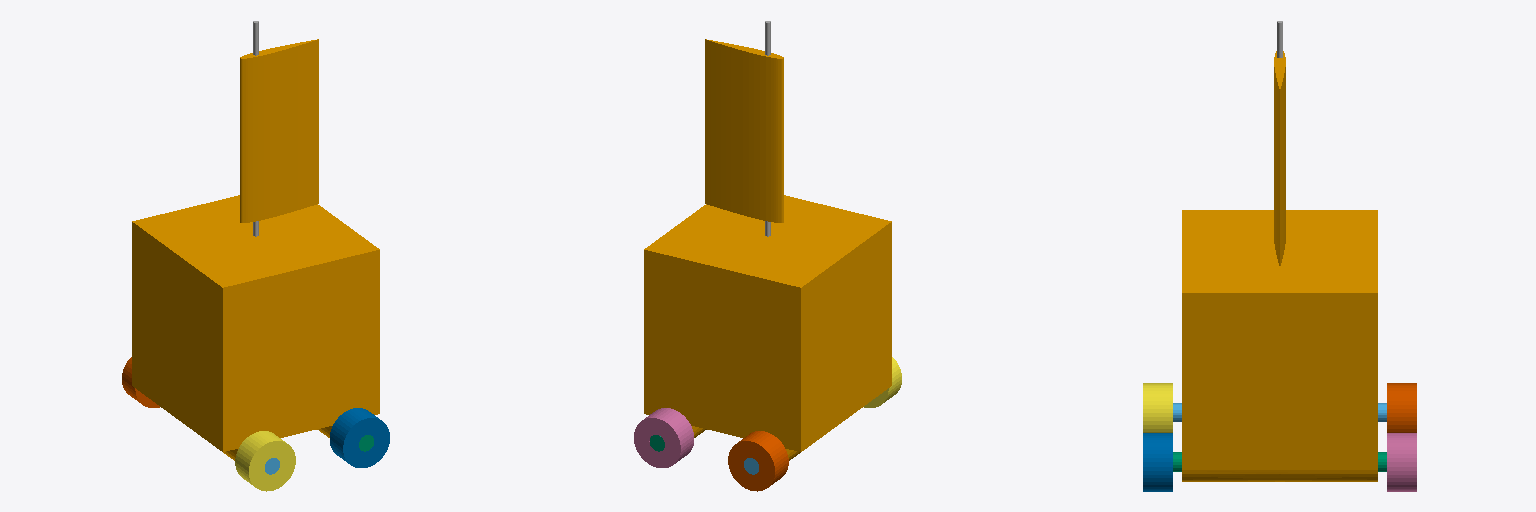
The robot description file, URDF, robot "cubo":
<?xml version="1.0"?>
<robot name="cubo">

<!-- LINKS -->

  <link name="base_link">
    <inertial>
      <origin xyz="0.0 -1.4387415876218923e-16 0.6802331218289486" rpy="0 0 0"/>
      <mass value="8130.307511653398"/>
      <inertia ixx="1421.174701" 
               iyy="1424.106222" 
               izz="1357.982772" 
               ixy="-0.0" 
               iyz="-0.0" 
               ixz="-0.0"/>
    </inertial>
    <visual>
      <origin xyz="0 0 0" rpy="0 0 0"/>
      <geometry>
        <mesh filename="package://cubo_description/meshes/base_link.stl"/>
      </geometry>
      <material name="silver"/>
    </visual>
    <collision>
      <origin xyz="0 0 0" rpy="0 0 0"/>
      <geometry>
        <mesh filename="package://cubo_description/meshes/base_link.stl"/>
      </geometry>
    </collision>
  </link>

  <link name="axis1_link_1">
    <inertial>
      <origin xyz="0.0 0.5 0.0" rpy="0 0 0"/>
      <mass value="86.31525815737957"/>
      <inertia ixx="14.152106" 
               iyy="0.107894" 
               izz="14.152106" 
               ixy="0.0" 
               iyz="0.0" 
               ixz="-0.0"/>
    </inertial>
    <visual>
      <origin xyz="0.3 0.5 -0.15" rpy="0 0 0"/>
      <geometry>
        <mesh filename="package://cubo_description/meshes/axis1_link_1.stl"/>
      </geometry>
      <material name="silver"/>
    </visual>
    <collision>
      <origin xyz="0.3 0.5 -0.15" rpy="0 0 0"/>
      <geometry>
        <mesh filename="package://cubo_description/meshes/axis1_link_1.stl"/>
      </geometry>
    </collision>
  </link>

  <link name="axis2_link_1">
    <inertial>
      <origin xyz="0.0 0.5 0.0" rpy="0 0 0"/>
      <mass value="86.31525815737956"/>
      <inertia ixx="14.152106" 
               iyy="0.107894" 
               izz="14.152106" 
               ixy="0.0" 
               iyz="0.0" 
               ixz="-0.0"/>
    </inertial>
    <visual>
      <origin xyz="-0.3 0.5 -0.15" rpy="0 0 0"/>
      <geometry>
        <mesh filename="package://cubo_description/meshes/axis2_link_1.stl"/>
      </geometry>
      <material name="silver"/>
    </visual>
    <collision>
      <origin xyz="-0.3 0.5 -0.15" rpy="0 0 0"/>
      <geometry>
        <mesh filename="package://cubo_description/meshes/axis2_link_1.stl"/>
      </geometry>
    </collision>
  </link>

  <link name="wheel1_link_1">
    <inertial>
      <origin xyz="-5.551115123125783e-17 0.07500000000000007 2.7755575615628914e-17" rpy="0 0 0"/>
      <mass value="73.98450699203963"/>
      <inertia ixx="0.601124" iyy="0.924806" izz="0.601124" ixy="0.0" iyz="0.0" ixz="-0.0"/>
    </inertial>
    <visual>
      <origin xyz="0.3 0.7 -0.15" rpy="0 0 0"/>
      <geometry>
        <mesh filename="package://cubo_description/meshes/wheel1_link_1.stl"/>
      </geometry>
      <material name="silver"/>
    </visual>
    <collision>
      <origin xyz="0.3 0.7 -0.15" rpy="0 0 0"/>
      <geometry>
        <mesh filename="package://cubo_description/meshes/wheel1_link_1.stl"/>
      </geometry>
    </collision>
  </link>

  <link name="wheel2_link_1">
    <inertial>
      <origin xyz="5.551115123125783e-17 0.07499999999999984 2.7755575615628914e-17" rpy="0 0 0"/>
      <mass value="73.98450699203961"/>
      <inertia ixx="0.601124" 
               iyy="0.924806" 
               izz="0.601124" 
               ixy="-0.0" 
               iyz="-0.0" 
               ixz="0.0"/>
    </inertial>
    <visual>
      <origin xyz="-0.3 0.7 -0.15" rpy="0 0 0"/>
      <geometry>
        <mesh filename="package://cubo_description/meshes/wheel2_link_1.stl"/>
      </geometry>
      <material name="silver"/>
    </visual>
    <collision>
      <origin xyz="-0.3 0.7 -0.15" rpy="0 0 0"/>
      <geometry>
        <mesh filename="package://cubo_description/meshes/wheel2_link_1.stl"/>
      </geometry>
    </collision>
  </link>

  <link name="wheel3_link_1">
    <inertial>
      <origin xyz="0.0 -0.07499999999999984 2.7755575615628914e-17" rpy="0 0 0"/>
      <mass value="73.98450699203961"/>
      <inertia ixx="0.601124" 
               iyy="0.924806" 
               izz="0.601124" 
               ixy="0.0" 
               iyz="-0.0" 
               ixz="-0.0"/>
    </inertial>
    <visual>
      <origin xyz="0.3 -0.7 -0.15" rpy="0 0 0"/>
      <geometry>
        <mesh filename="package://cubo_description/meshes/wheel3_link_1.stl"/>
      </geometry>
      <material name="silver"/>
    </visual>
    <collision>
      <origin xyz="0.3 -0.7 -0.15" rpy="0 0 0"/>
      <geometry>
        <mesh filename="package://cubo_description/meshes/wheel3_link_1.stl"/>
      </geometry>
    </collision>
  </link>

  <link name="wheel4_link_1">
    <inertial>
      <origin xyz="5.551115123125783e-17 -0.07500000000000007 2.7755575615628914e-17" rpy="0 0 0"/>
      <mass value="73.98450699203963"/>
      <inertia ixx="0.601124" iyy="0.924806" izz="0.601124" ixy="0.0" iyz="-0.0" ixz="0.0"/>
    </inertial>
    <visual>
      <origin xyz="-0.3 -0.7 -0.15" rpy="0 0 0"/>
      <geometry>
        <mesh filename="package://cubo_description/meshes/wheel4_link_1.stl"/>
      </geometry>
      <material name="silver"/>
    </visual>
    <collision>
      <origin xyz="-0.3 -0.7 -0.15" rpy="0 0 0"/>
      <geometry>
        <mesh filename="package://cubo_description/meshes/wheel4_link_1.stl"/>
      </geometry>
    </collision>
  </link>

  <link name="mast_link_1">
    <inertial>
      <origin xyz="0.0 0.0 0.6500000000000001" rpy="0 0 0"/>
      <mass value="7.213489431723865"/>
      <inertia ixx="1.016306" 
               iyy="1.016306" 
               izz="0.000812" 
               ixy="0.0" 
               iyz="0.0" 
               ixz="0.0"/>
    </inertial>
    <visual>
      <origin xyz="-0.0 -0.0 -1.2" rpy="0 0 0"/>
      <geometry>
        <mesh filename="package://cubo_description/meshes/mast_link_1.stl"/>
      </geometry>
      <material name="silver"/>
    </visual>
    <collision>
      <origin xyz="-0.0 -0.0 -1.2" rpy="0 0 0"/>
      <geometry>
        <mesh filename="package://cubo_description/meshes/mast_link_1.stl"/>
      </geometry>
    </collision>
  </link>

  <link name="sail_link_1">
    <inertial>
      <origin xyz="0.11414344795479987 -5.0741241850164775e-15 -0.5000000000000375" rpy="0 0 0"/>
      <mass value="21.036380800122238"/>
      <inertia ixx="1.757501" iyy="2.044229" izz="0.295667" ixy="0.0" iyz="-0.0" ixz="-0.0"/>
    </inertial>
    <visual>
      <origin xyz="-0.0 -0.0 -2.5" rpy="0 0 0"/>
      <geometry>
        <mesh filename="package://cubo_description/meshes/sail_link_1.stl"/>
      </geometry>
      <material name="silver"/>
    </visual>
    <collision>
      <origin xyz="-0.0 -0.0 -2.5" rpy="0 0 0"/>
      <geometry>
        <mesh filename="package://cubo_description/meshes/sail_link_1.stl" scale="0.001 0.001 0.001"/>
      </geometry>
    </collision>
  </link>

<!-- JOINTS -->

  <joint name="revolute1_joint" type="continuous">
    <origin xyz="-0.3 -0.5 0.15" rpy="0 0 0"/>
    <parent link="base_link"/>
    <child link="axis1_link_1"/>
    <axis xyz="0.0 1.0 0.0"/>
  </joint>

  <joint name="revolute2_joint" type="continuous">
    <origin xyz="0.3 -0.5 0.15" rpy="0 0 0"/>
    <parent link="base_link"/>
    <child link="axis2_link_1"/>
    <axis xyz="0.0 1.0 0.0"/>
  </joint>

  <joint name="wheel1_joint" type="fixed">
    <origin xyz="0.0 -0.2 0.0" rpy="0 0 0"/>
    <parent link="axis1_link_1"/>
    <child link="wheel1_link_1"/>
  </joint>

  <joint name="wheel2_joint" type="fixed">
    <origin xyz="0.0 -0.2 0.0" rpy="0 0 0"/>
    <parent link="axis2_link_1"/>
    <child link="wheel2_link_1"/>
  </joint>

  <joint name="wheel3_joint" type="fixed">
    <origin xyz="0.0 1.2 0.0" rpy="0 0 0"/>
    <parent link="axis1_link_1"/>
    <child link="wheel3_link_1"/>
  </joint>

  <joint name="wheel4_joint" type="fixed">
    <origin xyz="0.0 1.2 0.0" rpy="0 0 0"/>
    <parent link="axis2_link_1"/>
    <child link="wheel4_link_1"/>
  </joint>

  <joint name="base_mast_joint" type="fixed">
    <origin xyz="0.0 0.0 1.2" rpy="0 0 0"/>
    <parent link="base_link"/>
    <child link="mast_link_1"/>
  </joint>

  <joint name="mast_sail_joint" type="continuous">
    <origin xyz="0.0 0.0 1.3" rpy="0 0 0"/>
    <parent link="mast_link_1"/>
    <child link="sail_link_1"/>
    <axis xyz="0.0 0.0 1.0"/>
  </joint>

<!-- PLUGINS -->

  <gazebo>
      <plugin name="BuoyancyPlugin" filename="libBuoyancyPlugin.so">
        <fluid_density>1.225</fluid_density>
      </plugin>
  </gazebo>

<!-- Gazebo Lift Drag Plugin -->
 <gazebo>
    <plugin name="LiftDragPlugin" filename="libLiftDragPlugin.so">
      <air_density>1.225</air_density>
      <cla>0.0881818</cla>
      <cla_stall>-0.0800727</cla_stall>
      <cda>0.00239273</cda>
      <cda_stall>0.02712336</cda_stall>
      <alpha_stall>16.5</alpha_stall>
      <a0>0.0</a0>
      <area>0.825</area>
      <upward>0.0 1.0 0.0</upward>
      <forward>1.0 0.0 0.0</forward>
      <link_name>sail_link_1</link_name>
      <cp>-0.20 0.0 -0.50</cp>
    </plugin>
  </gazebo>

<!-- Gazebo Force/Joint sensor -->
<!-- Enable the Joint Feedback -->
  <gazebo reference="mast_sail_joint">
    <provideFeedback>true</provideFeedback>
  </gazebo>
<!-- The ft_sensor plugin -->
  <gazebo>
    <plugin name="ft_sensor" filename="libgazebo_ros_ft_sensor.so">
      <updateRate>10.0</updateRate>
      <topicName>ft_sensor_topic</topicName>
      <jointName>mast_sail_joint</jointName>
    </plugin>
  </gazebo>
</robot>

--- Facts derived from the render (not from the file) ---
The picture shows the robot from 3 angles, left to right: view 1: azimuth 30°, elevation 25°; view 2: azimuth 150°, elevation 25°; view 3: azimuth 270°, elevation 25°; orthographic projection.
Model cubo with 9 links and 8 joints (3 continuous, 5 fixed), rooted at base_link, posed all joints at 0.
Visible links, largest first — view 1: base_link, sail_link_1, wheel1_link_1, wheel2_link_1, wheel3_link_1; view 2: base_link, sail_link_1, wheel3_link_1, wheel4_link_1, wheel1_link_1; view 3: base_link, sail_link_1, wheel2_link_1, wheel4_link_1, wheel1_link_1, wheel3_link_1.
Boxes of the visible links, <box> form: base_link: <box>132,195,379,460</box>; sail_link_1: <box>240,39,318,222</box>; wheel1_link_1: <box>235,431,295,491</box>; wheel2_link_1: <box>330,408,389,467</box>; wheel3_link_1: <box>122,357,159,407</box>; base_link: <box>644,195,891,460</box>; sail_link_1: <box>705,39,783,222</box>; wheel3_link_1: <box>728,431,788,491</box>; wheel4_link_1: <box>634,408,693,467</box>; wheel1_link_1: <box>864,357,901,407</box>; base_link: <box>1182,210,1377,481</box>; sail_link_1: <box>1274,51,1285,265</box>; wheel2_link_1: <box>1143,433,1172,491</box>; wheel4_link_1: <box>1387,433,1416,491</box>; wheel1_link_1: <box>1143,383,1172,432</box>; wheel3_link_1: <box>1387,383,1416,432</box>.
Size in the robot's own frame: 1 by 1.4 by 2.5 metres.
Meshes: 9 distinct files referenced, 9 mesh visuals loaded (9 binary STL).
